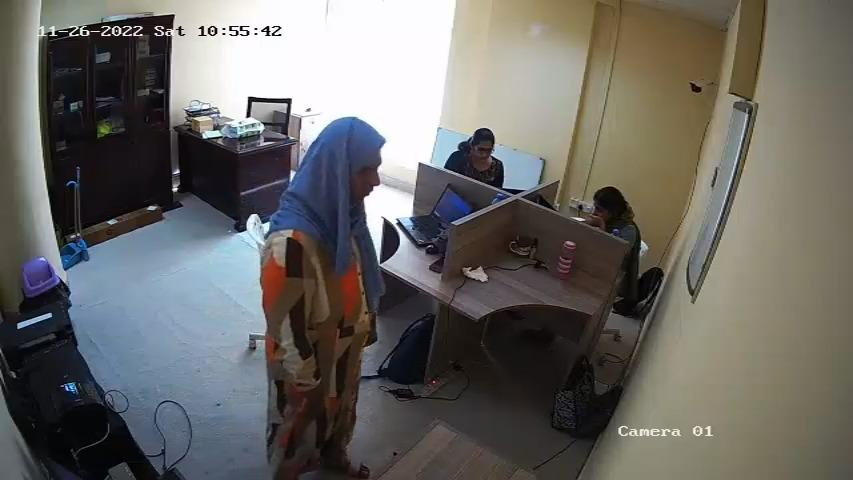no_apron: (285, 221, 366, 384)
